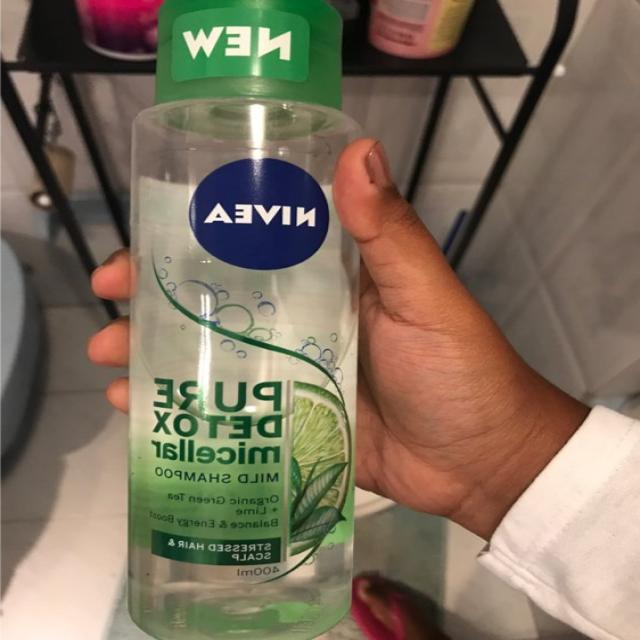plastic: (124, 0, 365, 640)
